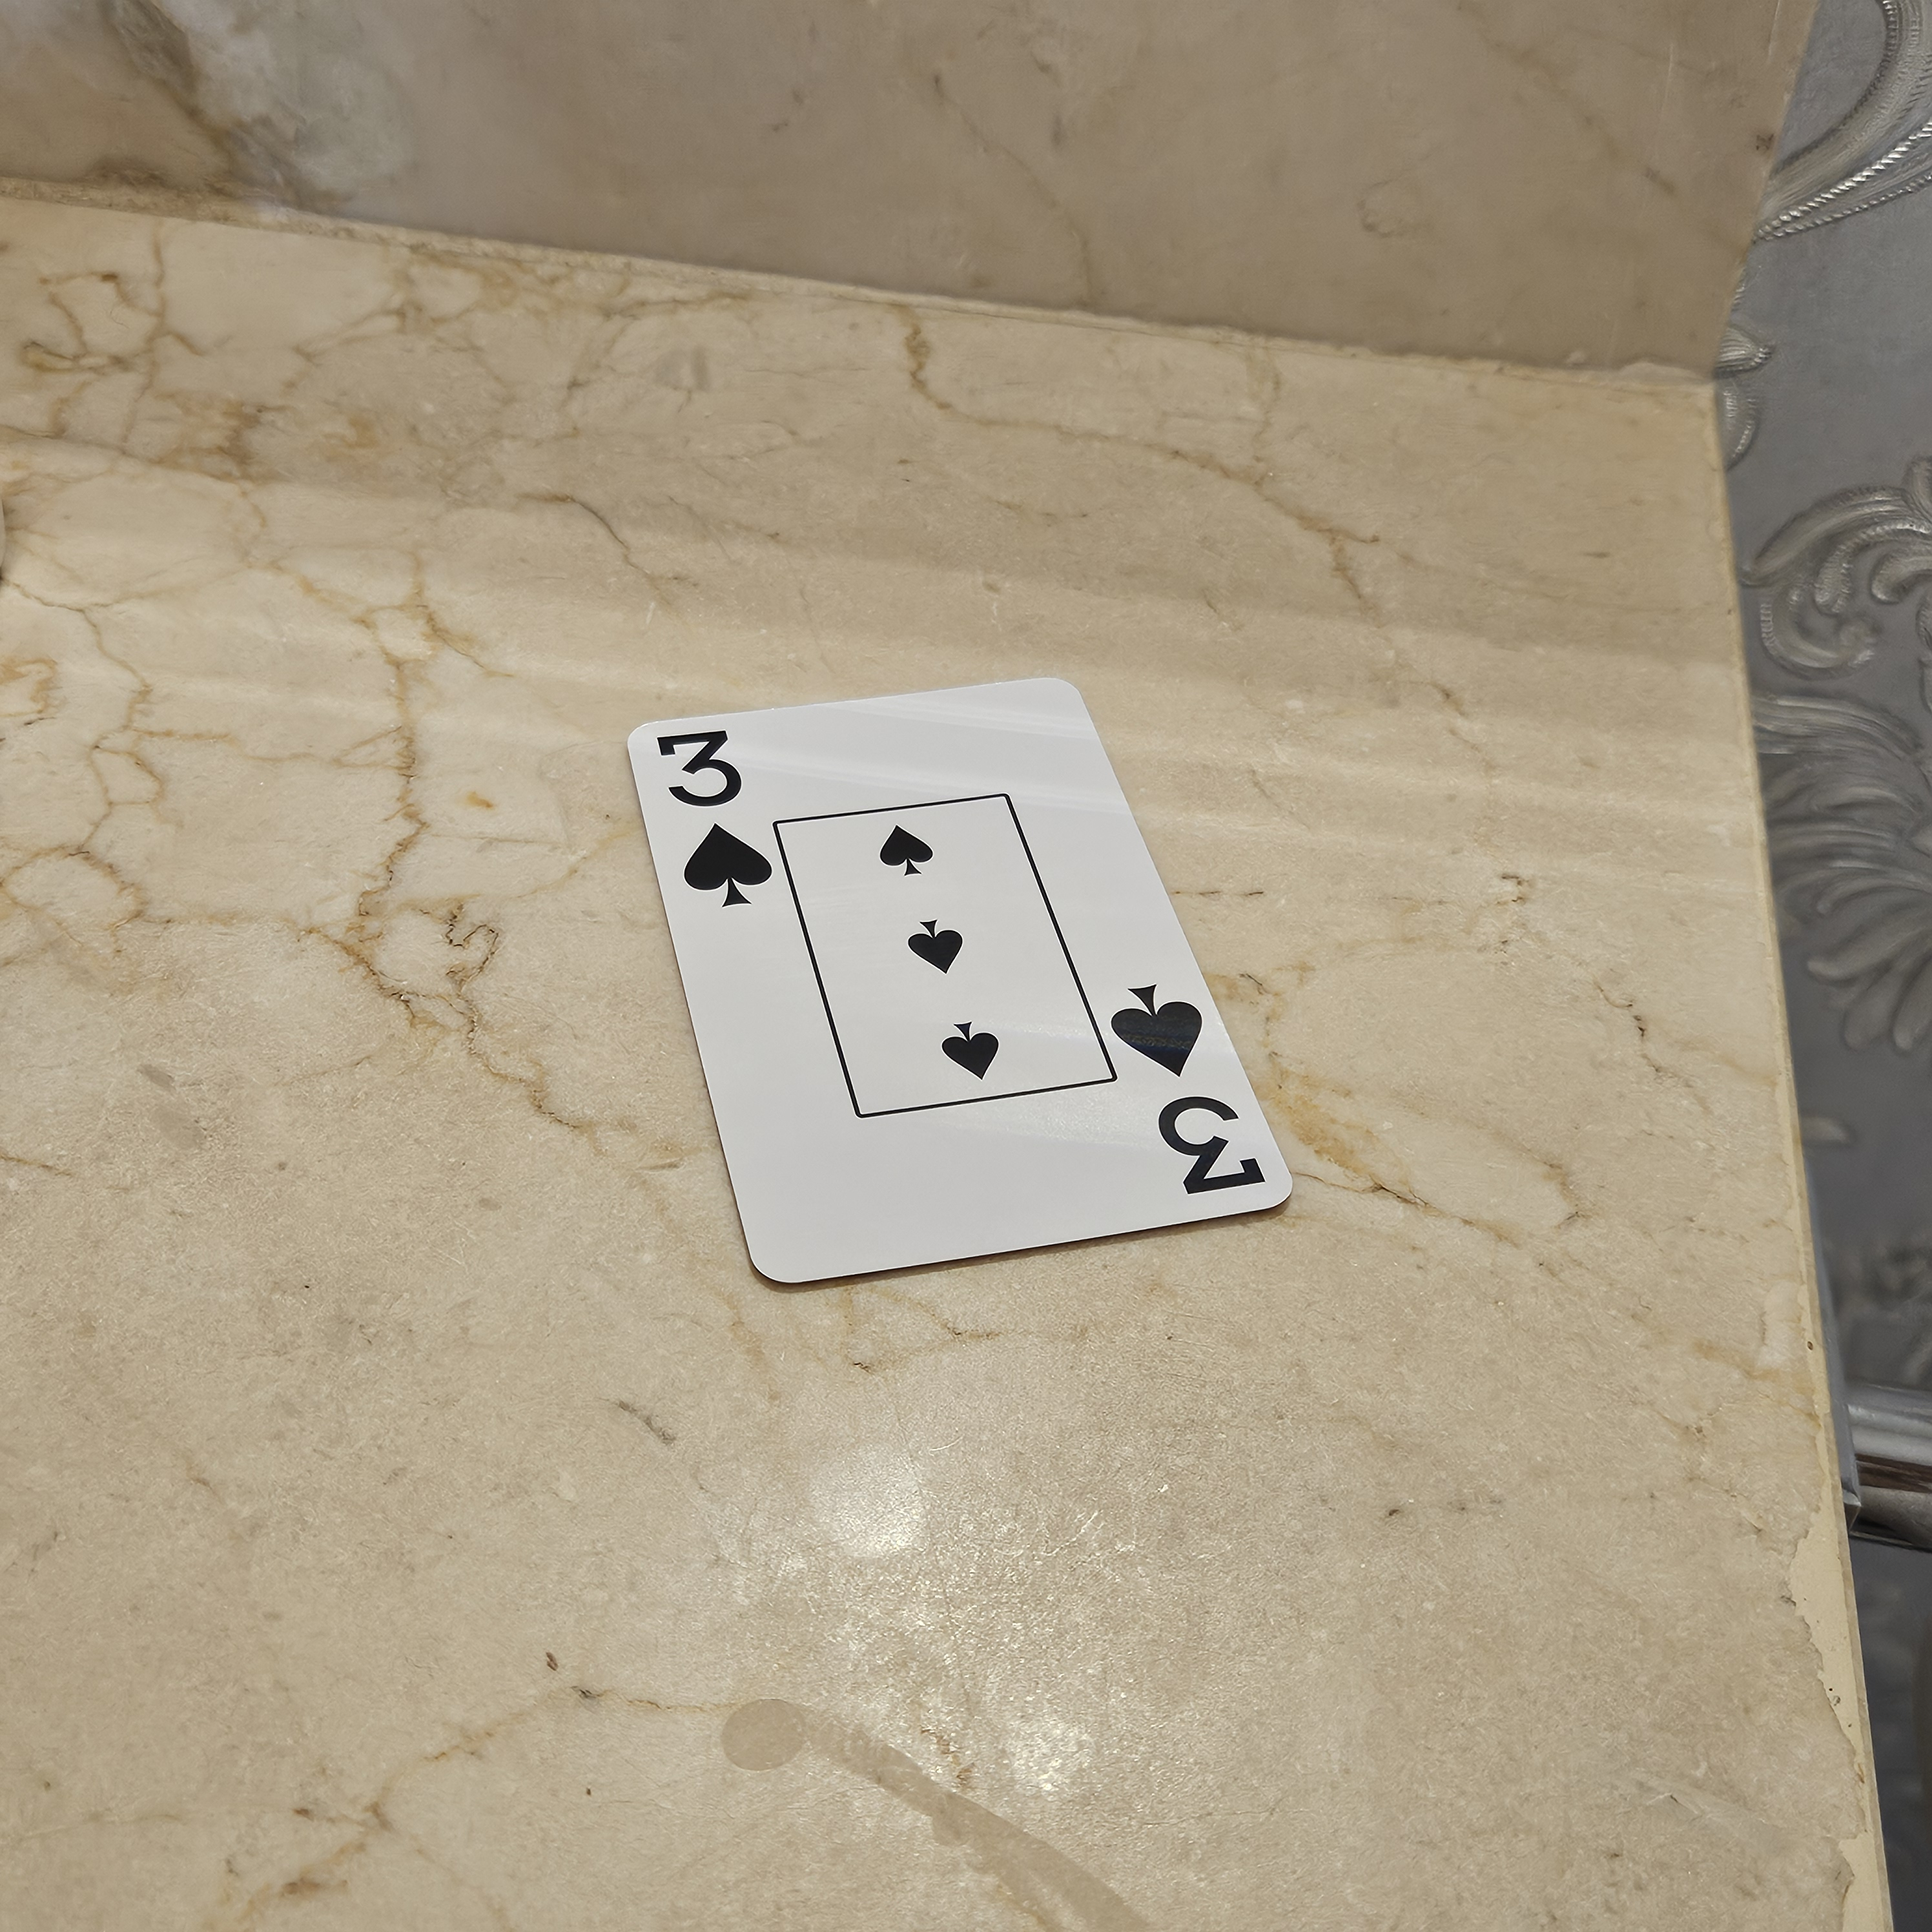3E: (1099, 968, 1276, 1215), (635, 722, 787, 916)
